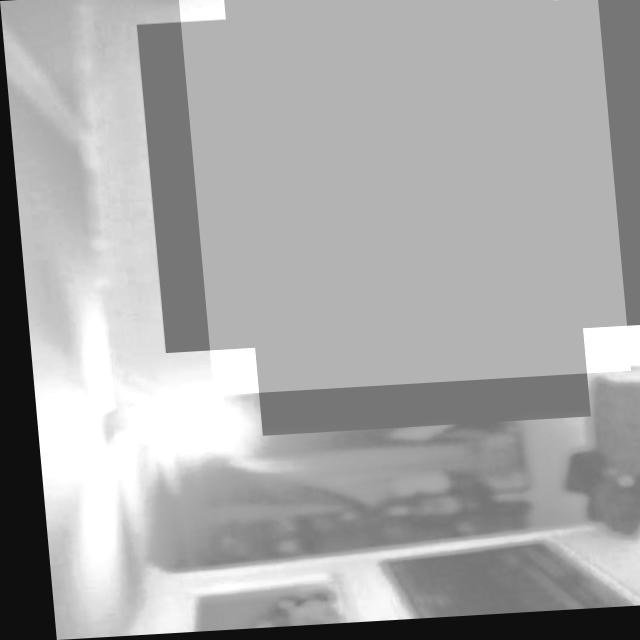qr_code: (178, 0, 623, 397)
